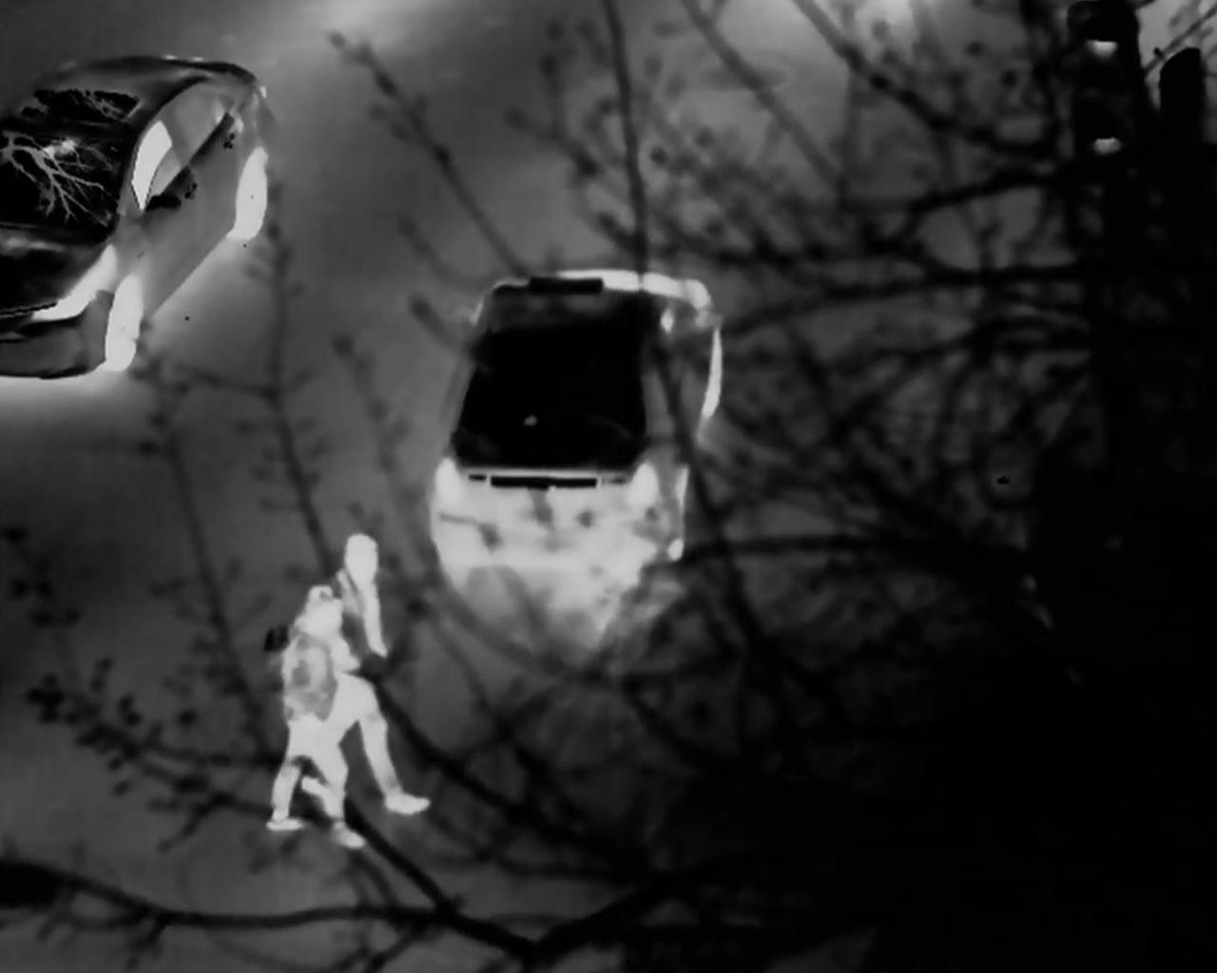person: (326, 527, 436, 821), (276, 587, 344, 806)
